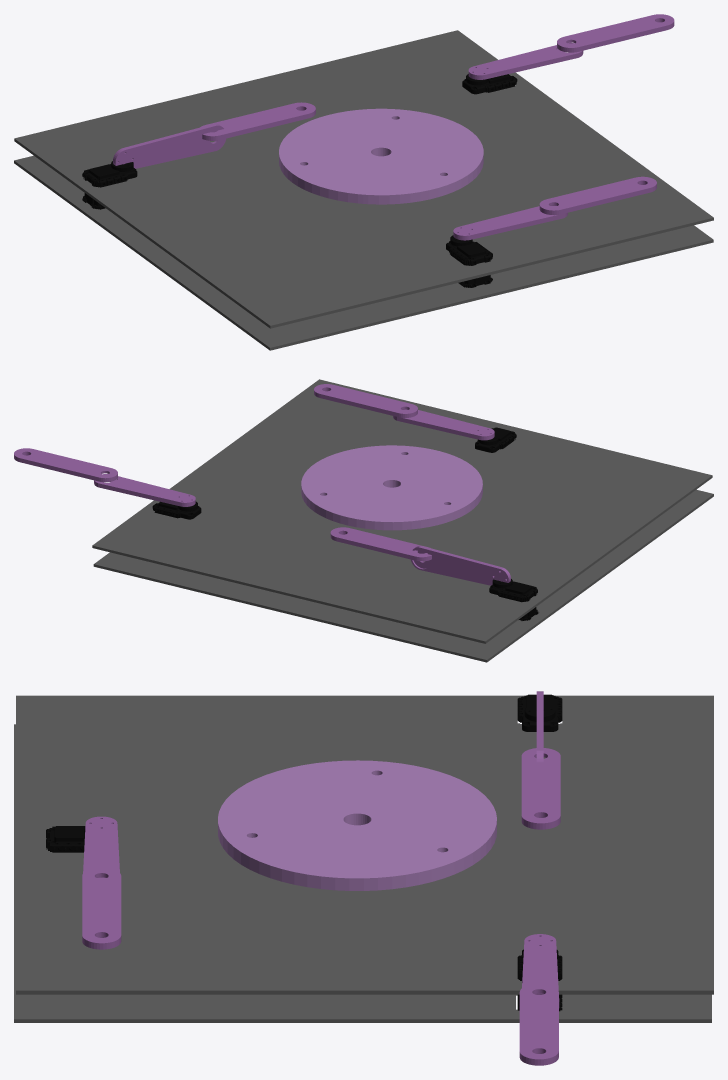
The model's file is Ensamble-1-1blend.fbx.
The picture shows the model from 3 angles, top to bottom: view 1: azimuth 30°, elevation 25°; view 2: azimuth 150°, elevation 25°; view 3: azimuth 270°, elevation 25°; orthographic projection. The views are drawn at different scales.
Parts seen in each view (by area): view 1: Ensamble Cero - Base Fija-2, Ensamble Cero - basemovil-1, Ensamble Cero - braso1-3, Ensamble Cero - braso2-1, Ensamble Cero - braso2-2, Ensamble Cero - braso2-3, Ensamble Cero - braso1-2, Ensamble Cero - braso1-1, Ensamble Cero - Motor-1 Motor Base-1, Ensamble Cero - Motor-3 Motor Base-1, Ensamble Cero - Motor-4 Motor Base-1; view 2: Ensamble Cero - Base Fija-2, Ensamble Cero - basemovil-1, Ensamble Cero - braso1-3, Ensamble Cero - braso2-2, Ensamble Cero - braso2-1, Ensamble Cero - braso2-3, Ensamble Cero - braso1-2, Ensamble Cero - braso1-1, Ensamble Cero - Motor-3 Motor Base-1, Ensamble Cero - Motor-1 Motor Base-1, Ensamble Cero - Motor-4 Motor Base-1; view 3: Ensamble Cero - Base Fija-2, Ensamble Cero - basemovil-1, Ensamble Cero - braso2-1, Ensamble Cero - braso2-2, Ensamble Cero - braso2-3, Ensamble Cero - braso1-1, Ensamble Cero - braso1-2, Ensamble Cero - Motor-3 Motor Base-1, Ensamble Cero - Motor-1 Motor Base-1.
Part boxes in pixels (box(x1,y1,x2,y2)): Ensamble Cero - Base Fija-2: box(14, 30, 713, 350); Ensamble Cero - basemovil-1: box(279, 108, 483, 204); Ensamble Cero - braso1-3: box(113, 123, 226, 168); Ensamble Cero - braso2-1: box(539, 176, 656, 215); Ensamble Cero - braso2-2: box(557, 14, 674, 52); Ensamble Cero - braso2-3: box(200, 102, 315, 140); Ensamble Cero - braso1-2: box(468, 42, 583, 79); Ensamble Cero - braso1-1: box(453, 205, 567, 240); Ensamble Cero - Motor-1 Motor Base-1: box(446, 241, 492, 287); Ensamble Cero - Motor-3 Motor Base-1: box(82, 164, 137, 209); Ensamble Cero - Motor-4 Motor Base-1: box(462, 74, 517, 94); Ensamble Cero - Base Fija-2: box(92, 379, 713, 662); Ensamble Cero - basemovil-1: box(301, 445, 482, 530); Ensamble Cero - braso1-3: box(411, 545, 510, 585); Ensamble Cero - braso2-2: box(14, 448, 117, 482); Ensamble Cero - braso2-1: box(314, 384, 417, 417); Ensamble Cero - braso2-3: box(330, 527, 431, 561); Ensamble Cero - braso1-2: box(94, 474, 195, 506); Ensamble Cero - braso1-1: box(393, 409, 494, 440); Ensamble Cero - Motor-3 Motor Base-1: box(489, 581, 537, 620); Ensamble Cero - Motor-1 Motor Base-1: box(475, 427, 516, 452); Ensamble Cero - Motor-4 Motor Base-1: box(152, 501, 201, 519); Ensamble Cero - Base Fija-2: box(14, 695, 713, 1022); Ensamble Cero - basemovil-1: box(218, 760, 496, 890); Ensamble Cero - braso2-1: box(82, 867, 121, 949); Ensamble Cero - braso2-2: box(519, 984, 558, 1065); Ensamble Cero - braso2-3: box(521, 748, 560, 829); Ensamble Cero - braso1-1: box(83, 816, 119, 878); Ensamble Cero - braso1-2: box(522, 934, 559, 1007); Ensamble Cero - Motor-3 Motor Base-1: box(517, 694, 562, 731); Ensamble Cero - Motor-1 Motor Base-1: box(46, 826, 84, 852).
Size of the model in its own units: 671 by 57.92 by 501.
